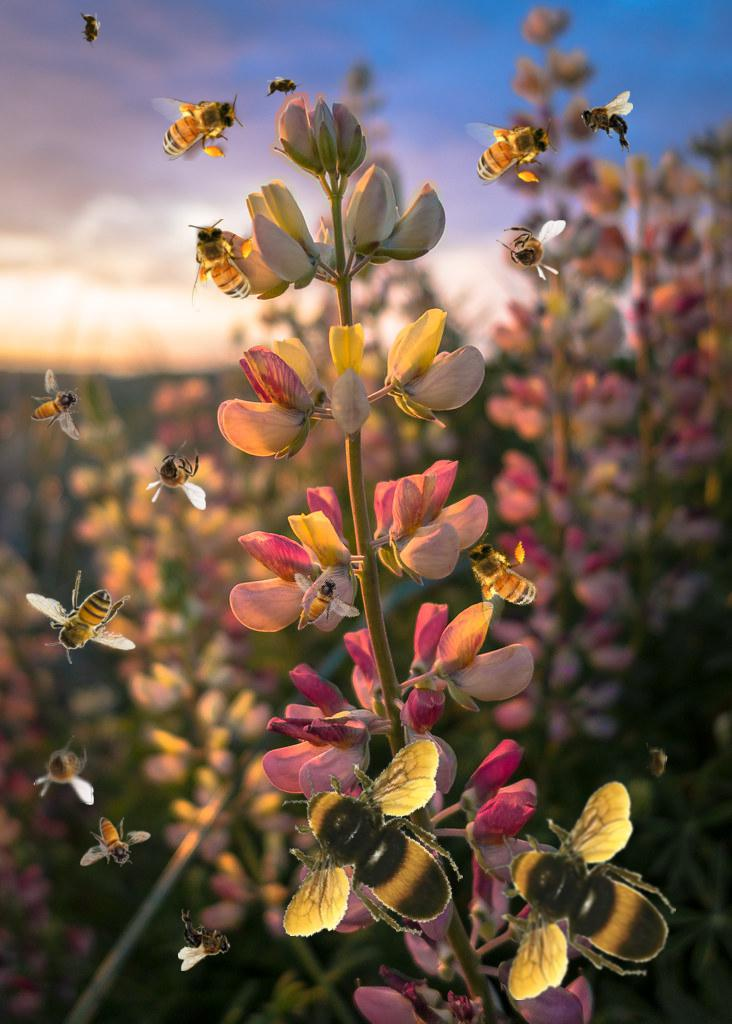Bee: (258, 713, 488, 966), (485, 780, 676, 1000), (454, 522, 550, 633), (25, 570, 136, 664), (280, 555, 362, 642), (464, 118, 557, 186), (188, 219, 256, 312), (150, 93, 243, 161), (496, 220, 566, 281), (145, 440, 206, 510), (33, 735, 94, 805), (80, 817, 151, 867), (31, 369, 81, 440), (178, 909, 231, 971), (580, 91, 633, 153), (263, 76, 303, 98), (646, 743, 668, 783), (79, 9, 101, 49)
